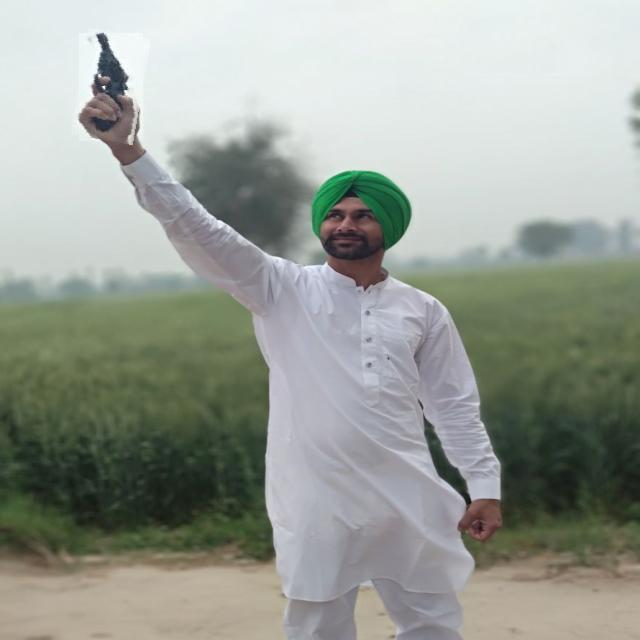handgun: (74, 30, 148, 144)
